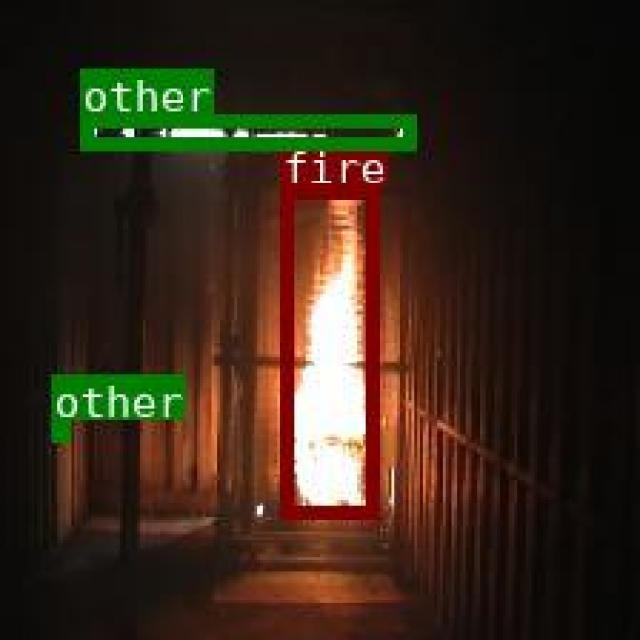fire: (277, 183, 375, 517)
